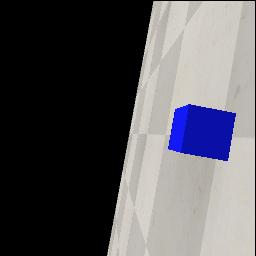box: (168, 104, 236, 161)
